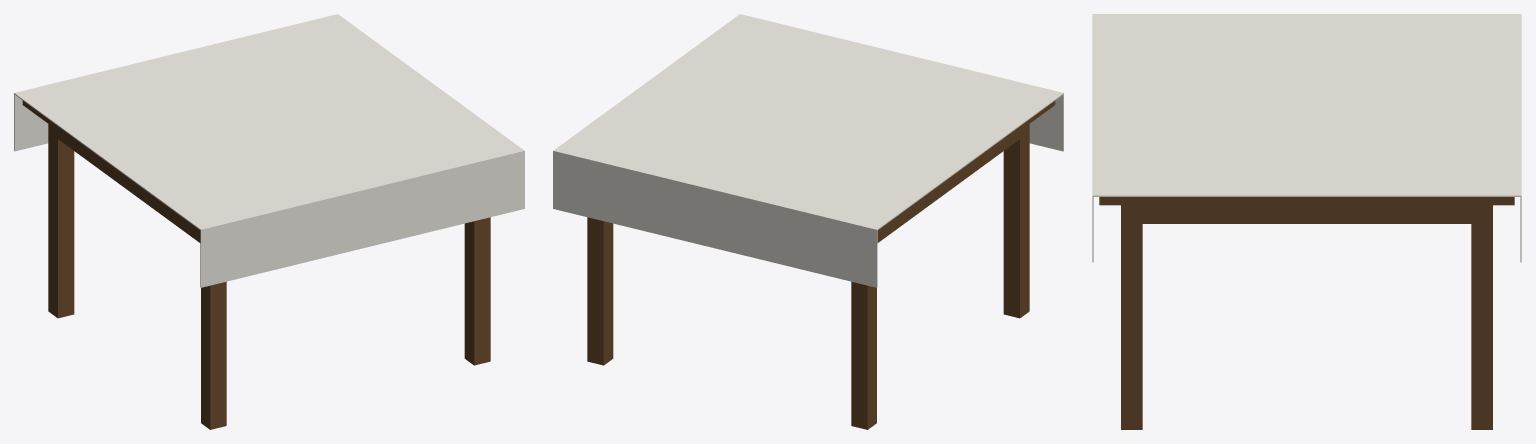
3 views of the same model, side by side, from view 1: azimuth 30°, elevation 25°; view 2: azimuth 150°, elevation 25°; view 3: azimuth 270°, elevation 25° (orthographic). The views are drawn at different scales.
Parts seen in each view (by area): view 1: parametric-variant-table-1st-pub-5503849bc202f76afb4f; view 2: parametric-variant-table-1st-pub-5503849bc202f76afb4f; view 3: parametric-variant-table-1st-pub-5503849bc202f76afb4f.
Part boxes in pixels (x1,y1,x2,y2): parametric-variant-table-1st-pub-5503849bc202f76afb4f: (14, 14, 524, 429); parametric-variant-table-1st-pub-5503849bc202f76afb4f: (553, 14, 1063, 429); parametric-variant-table-1st-pub-5503849bc202f76afb4f: (1092, 14, 1521, 429).
Size of the model in its own units: 1.19 by 0.754 by 1.19.
